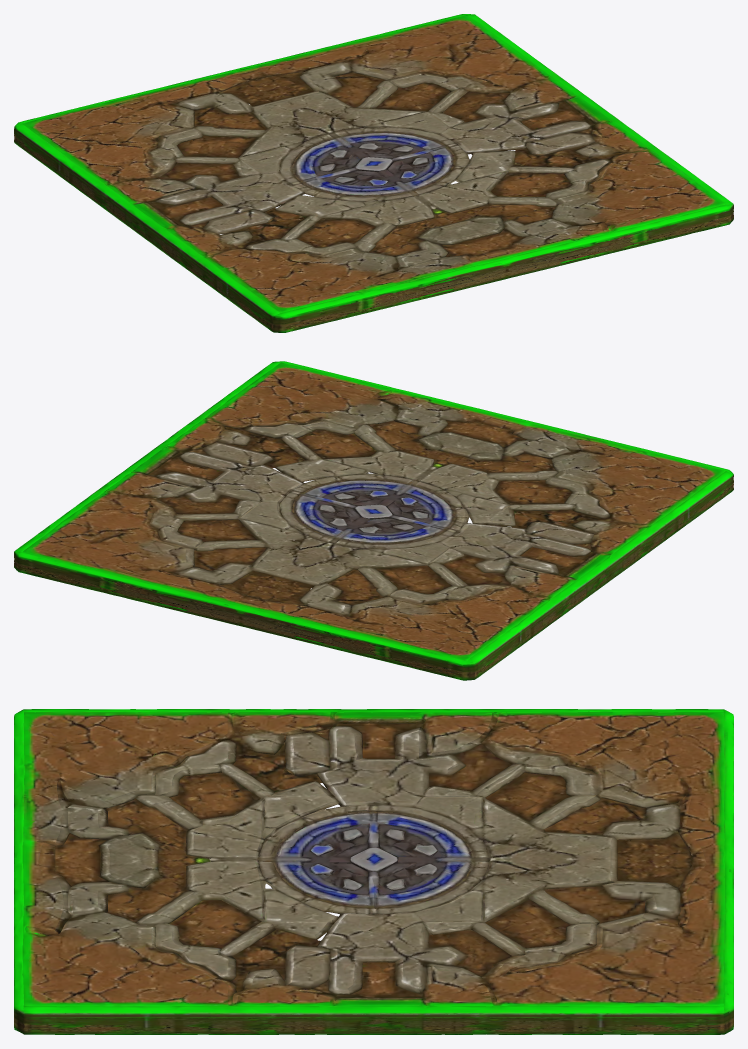
File: MartianFloor_RuinTile_A_UnrealReady.glb
3 renders of one model, top to bottom at view 1: azimuth 30°, elevation 25°; view 2: azimuth 150°, elevation 25°; view 3: azimuth 270°, elevation 25°, orthographic. The views are drawn at different scales.
Parts seen in each view (by area): view 1: MartianFloor_RuinTile_A_UnrealReady; view 2: MartianFloor_RuinTile_A_UnrealReady; view 3: MartianFloor_RuinTile_A_UnrealReady.
Part boxes in pixels (left/top/right/bottom): MartianFloor_RuinTile_A_UnrealReady: left=14, top=14, right=733, bottom=332; MartianFloor_RuinTile_A_UnrealReady: left=14, top=361, right=733, bottom=680; MartianFloor_RuinTile_A_UnrealReady: left=14, top=709, right=733, bottom=1034.
Bounding box in the file's own units: 6 × 0.24 × 6.
1 material, 1 textured.
